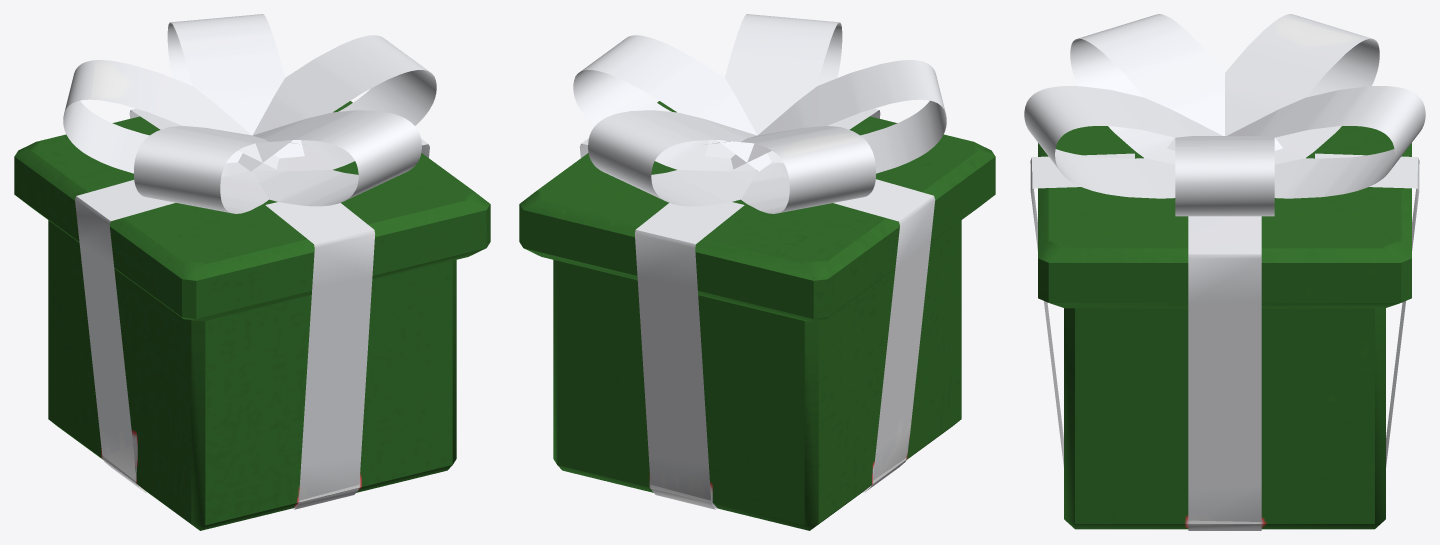
File: greenPresent.gltf
The picture shows the model from 3 angles, left to right: view 1: azimuth 30°, elevation 25°; view 2: azimuth 150°, elevation 25°; view 3: azimuth 270°, elevation 25°; orthographic projection. The views are drawn at different scales.
Parts seen in each view (by area): view 1: Polygon_Reduction; view 2: Polygon_Reduction; view 3: Polygon_Reduction.
Part boxes in pixels (x1,y1,x2,y2): Polygon_Reduction: [14, 14, 490, 530]; Polygon_Reduction: [519, 14, 995, 530]; Polygon_Reduction: [1024, 14, 1425, 530].
Bounding box in the file's own units: 1.31 × 1.42 × 1.35.
1 material, 1 textured.
